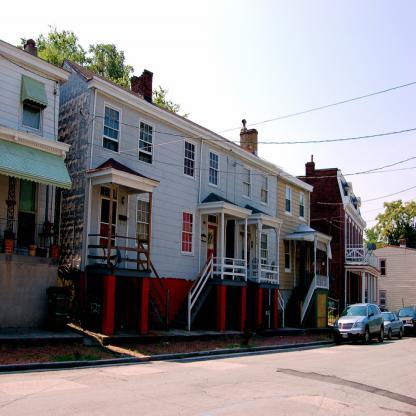car: (334, 304, 386, 344), (382, 310, 404, 340), (398, 303, 416, 337)
